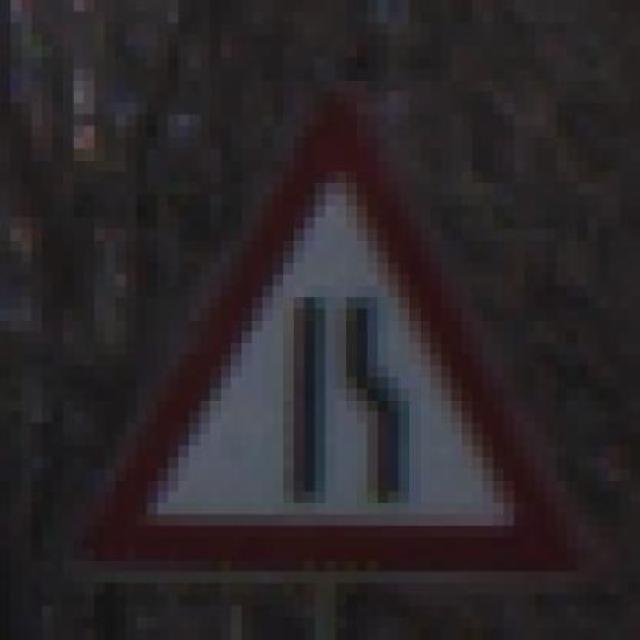-Road narrows on right: (84, 91, 598, 583)
